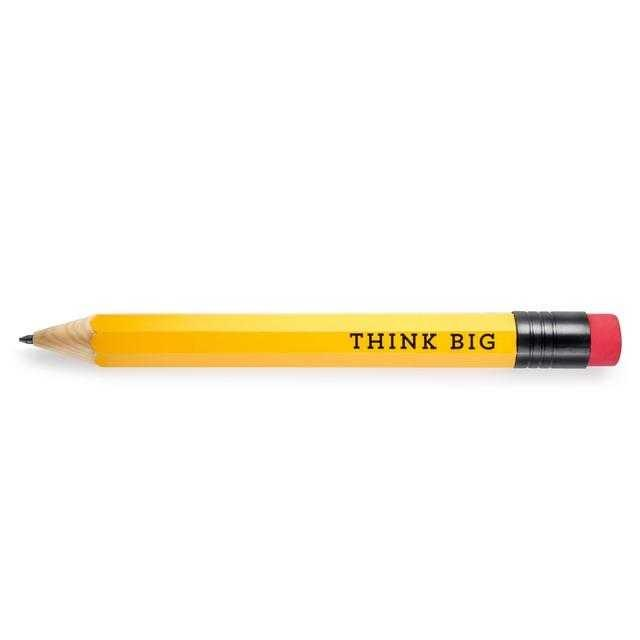pencil: (5, 289, 628, 386)
